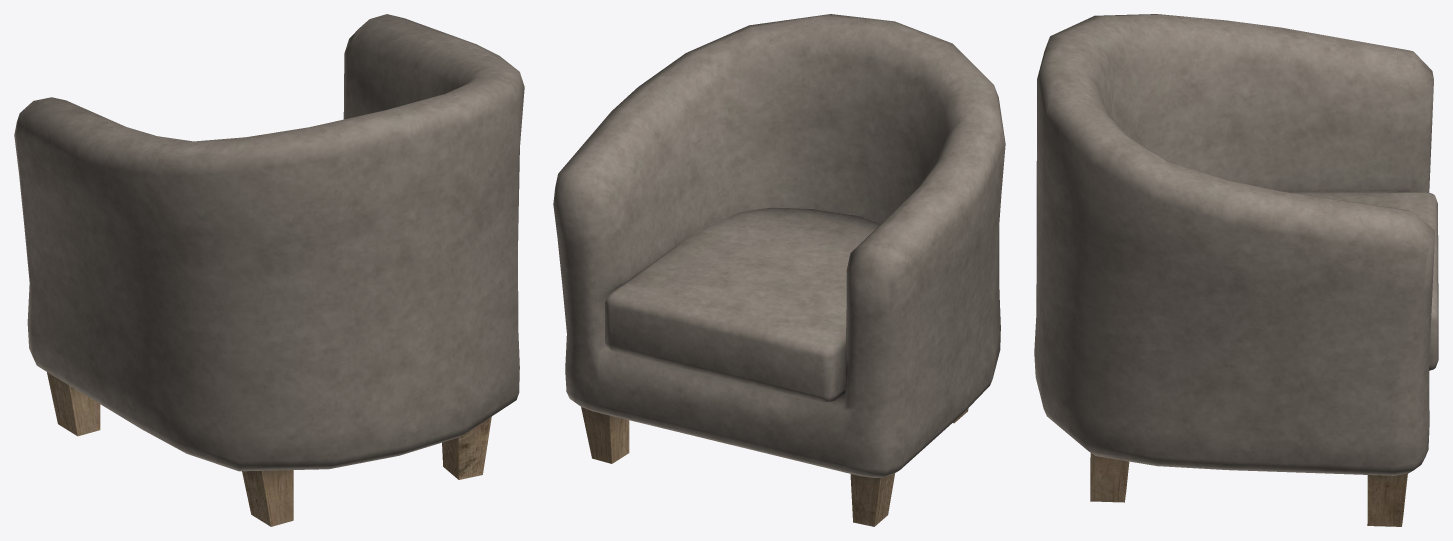
File: frl_apartment_chair_01.glb
The picture shows the model from 3 angles, left to right: view 1: azimuth 30°, elevation 25°; view 2: azimuth 150°, elevation 25°; view 3: azimuth 270°, elevation 25°; orthographic projection. The views are drawn at different scales.
Parts seen in each view (by area): view 1: frl_apartment_chair_01; view 2: frl_apartment_chair_01; view 3: frl_apartment_chair_01.
Boxes of the visible parts, x1,y1,x2,y2 form: frl_apartment_chair_01: [14, 14, 524, 526]; frl_apartment_chair_01: [553, 14, 1005, 526]; frl_apartment_chair_01: [1034, 14, 1438, 526].
Size of the model in its own units: 0.7996 by 0.7554 by 0.7088.
Materials: 1 (1 with a texture image).
